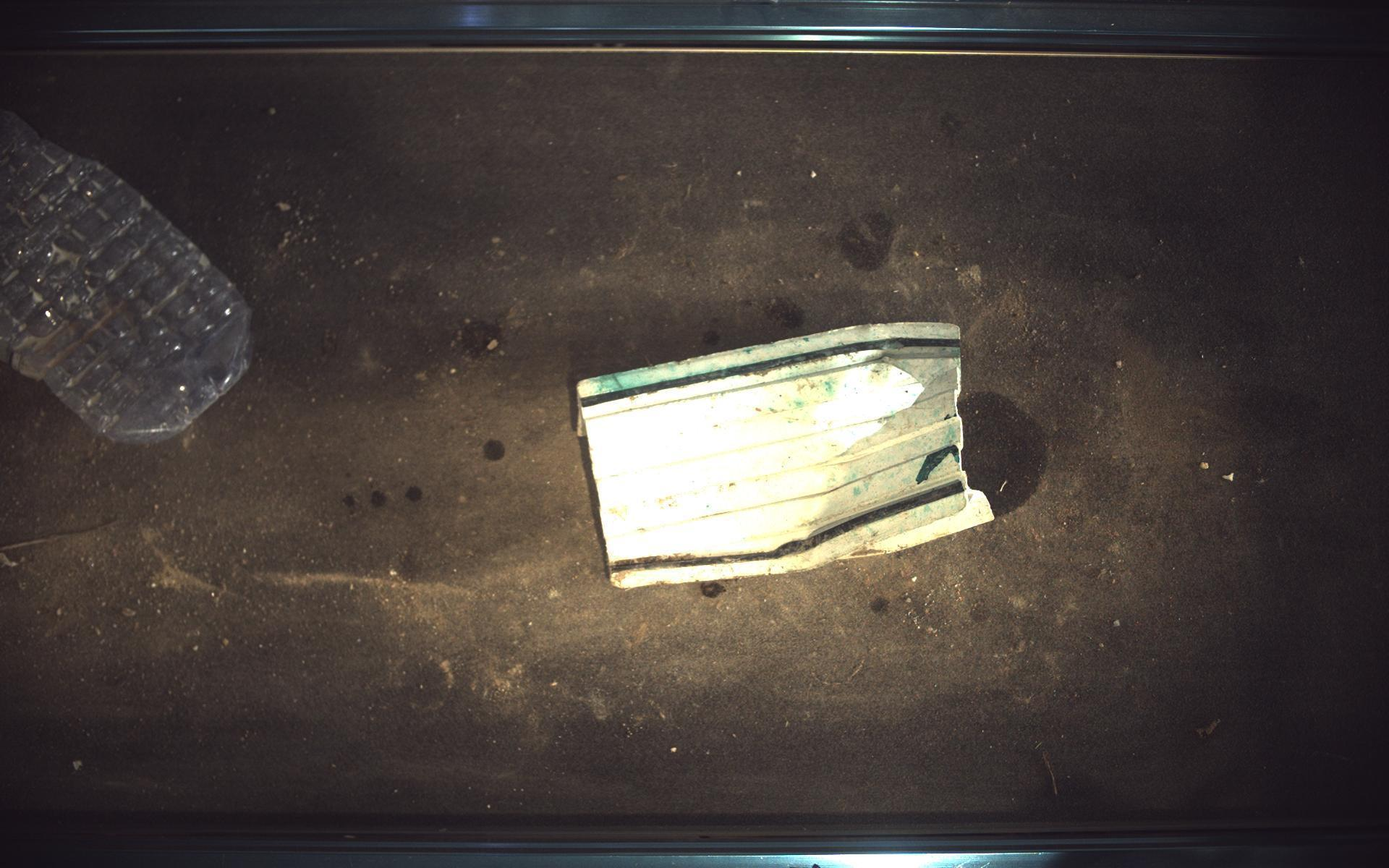general_w: (1, 109, 250, 443)
plastic: (577, 322, 995, 589)
